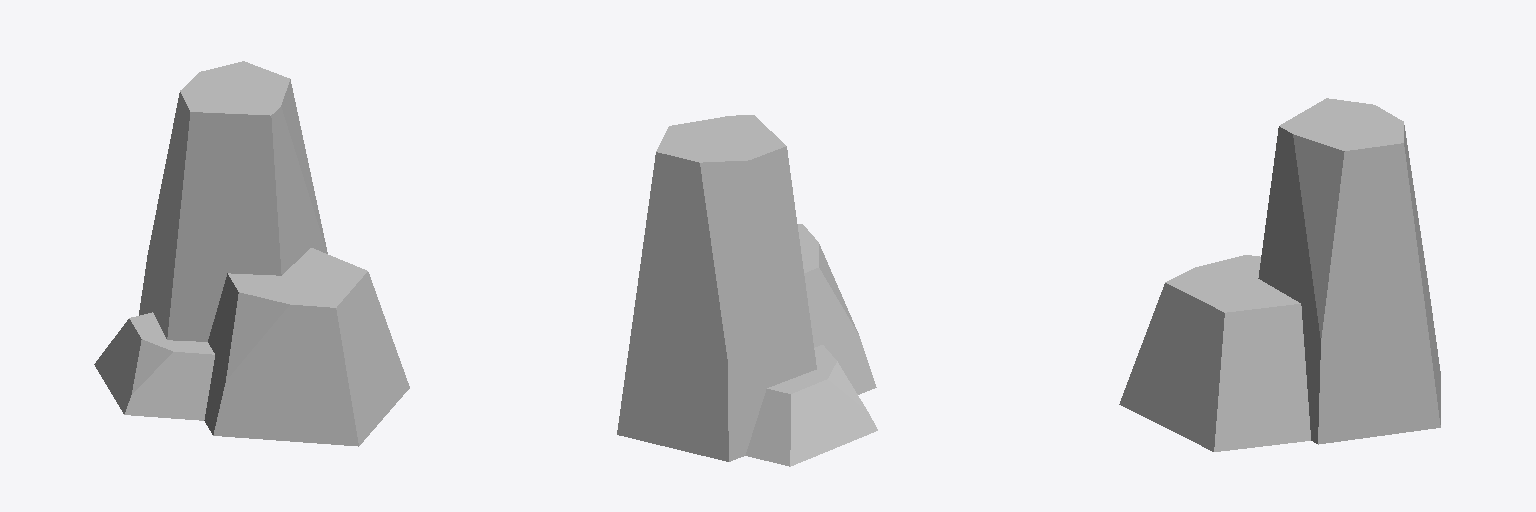
The model's file is rockSmall.obj.
3 renders of one model, left to right at view 1: azimuth 30°, elevation 25°; view 2: azimuth 150°, elevation 25°; view 3: azimuth 270°, elevation 25°, orthographic.
Visible parts, largest first — view 1: rockSmall; view 2: rockSmall; view 3: rockSmall.
Part boxes in pixels (bbox=[...]): rockSmall: bbox=[94, 61, 409, 446]; rockSmall: bbox=[617, 115, 877, 466]; rockSmall: bbox=[1119, 98, 1440, 451].
Size of the model in its own units: 0.9419 by 1.02 by 1.08.